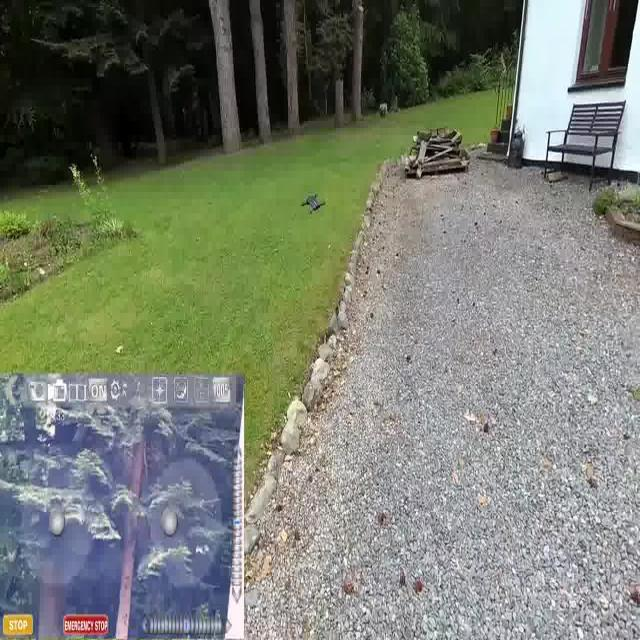drone: (301, 188, 328, 220)
